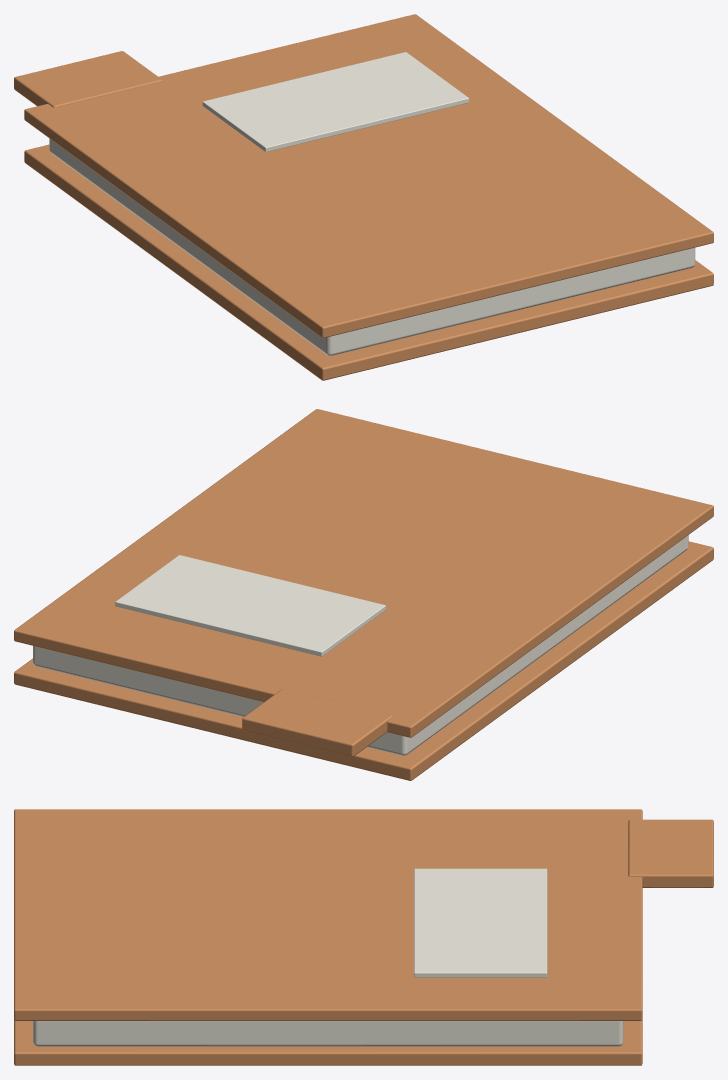
File: hero.glb
The picture shows the model from 3 angles, top to bottom: view 1: azimuth 30°, elevation 25°; view 2: azimuth 150°, elevation 25°; view 3: azimuth 270°, elevation 25°; orthographic projection. The views are drawn at different scales.
Visible parts, largest first — view 1: city-courthouse-and-records-office-case-file-folder; view 2: city-courthouse-and-records-office-case-file-folder; view 3: city-courthouse-and-records-office-case-file-folder.
Boxes of the visible parts, x1,y1,x2,y2 form: city-courthouse-and-records-office-case-file-folder: [14, 14, 713, 380]; city-courthouse-and-records-office-case-file-folder: [14, 409, 713, 780]; city-courthouse-and-records-office-case-file-folder: [14, 809, 713, 1065].
Size of the model in its own units: 0.25 by 0.038 by 0.3675.
